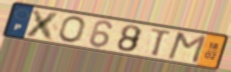6: (88, 20, 114, 49)
8: (116, 24, 143, 53)
M: (165, 31, 208, 65)
O: (57, 15, 87, 44)
T: (149, 27, 174, 57)
X: (23, 8, 63, 42)
